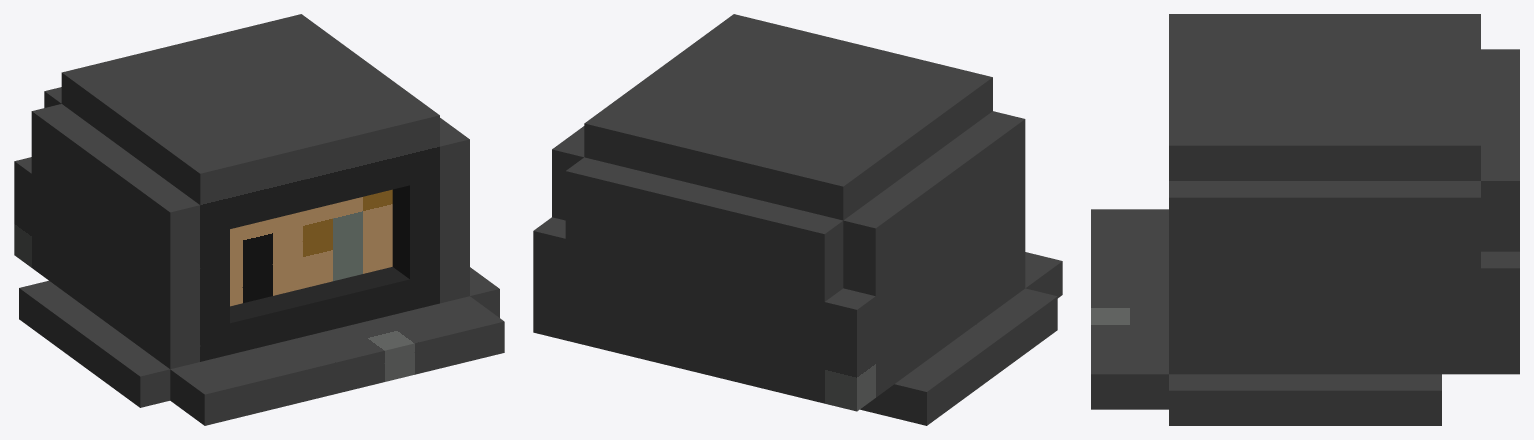
File: Head.fbx
The picture shows the model from 3 angles, left to right: view 1: azimuth 30°, elevation 25°; view 2: azimuth 150°, elevation 25°; view 3: azimuth 270°, elevation 25°; orthographic projection. The views are drawn at different scales.
Visible parts, largest first — view 1: Head.001; view 2: Head.001; view 3: Head.001.
Part boxes in pixels (<box>): Head.001: <box>14,14,504,425</box>; Head.001: <box>533,14,1062,425</box>; Head.001: <box>1091,14,1519,425</box>.
Size of the model in its own units: 12 by 7 by 11.
1 material, 1 textured.
